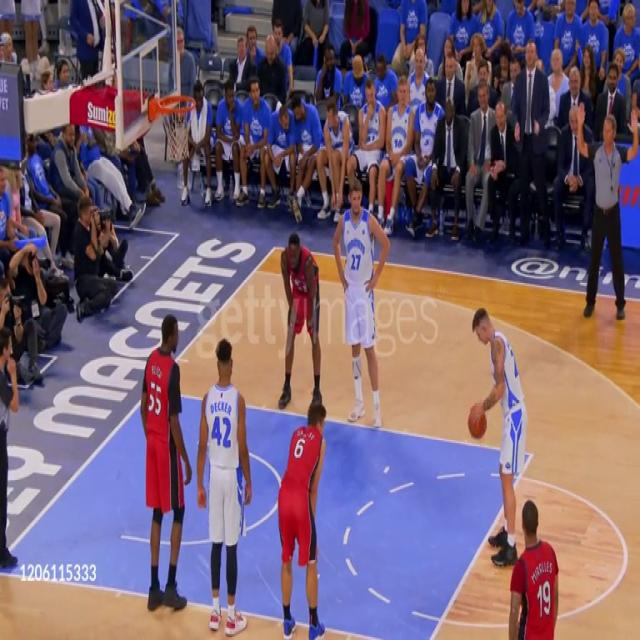ball: (468, 403, 488, 438)
